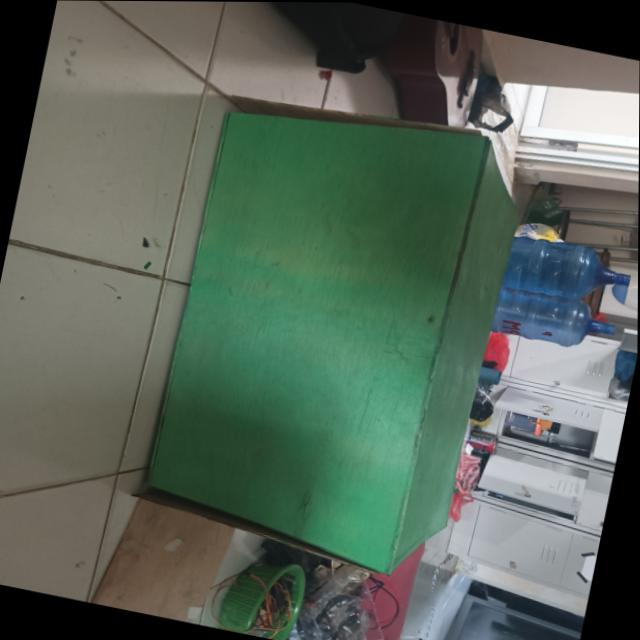green_box: (48, 56, 568, 598)
